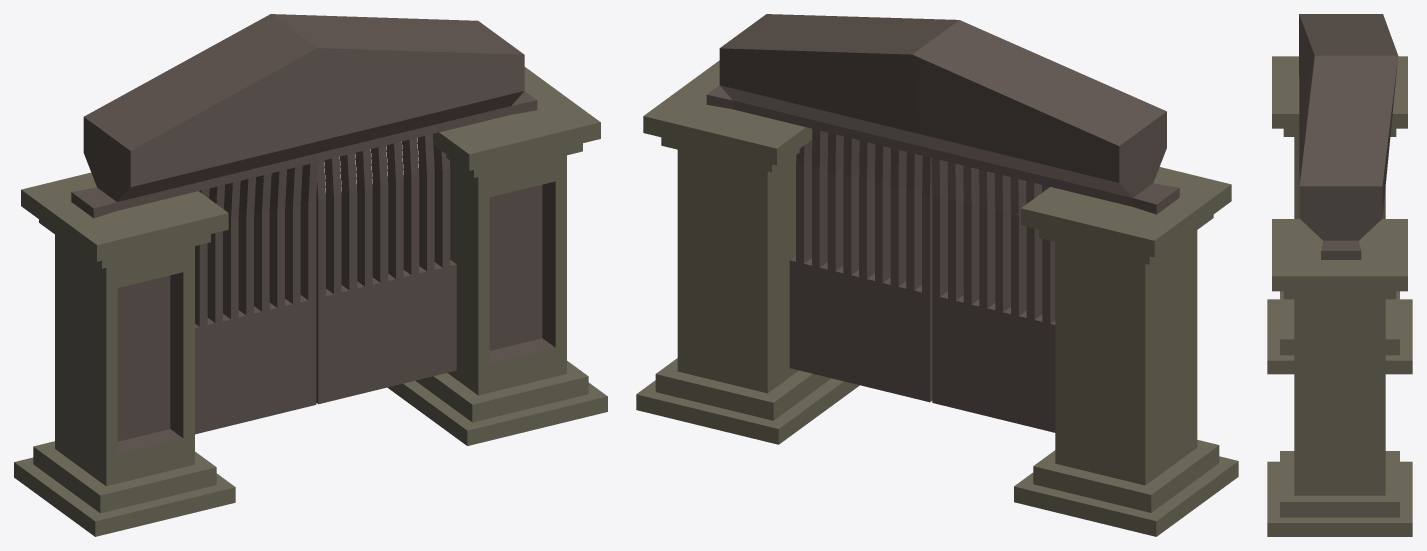
The model's file is PORTAO.fbx.
3 renders of one model, left to right at view 1: azimuth 30°, elevation 25°; view 2: azimuth 150°, elevation 25°; view 3: azimuth 270°, elevation 25°, orthographic. The views are drawn at different scales.
Visible parts, largest first — view 1: Cube.001, Cube.004, Cube.003; view 2: Cube.001, Cube.004, Cube.003; view 3: Cube.001.
Part boxes in pixels (<box>): Cube.001: <box>14,14,607,536</box>; Cube.004: <box>316,134,456,404</box>; Cube.003: <box>195,162,318,434</box>; Cube.001: <box>636,14,1238,536</box>; Cube.004: <box>789,129,932,402</box>; Cube.003: <box>931,158,1055,432</box>; Cube.001: <box>1267,14,1412,536</box>.
Bounding box in the file's own units: 884 × 674 × 242.
